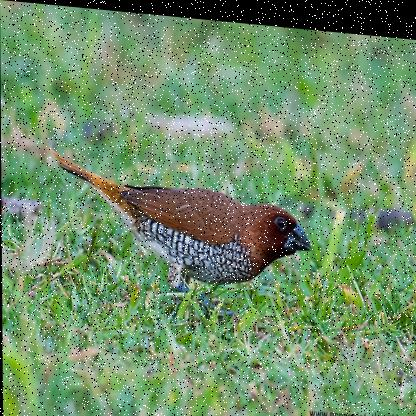Burung: (50, 146, 310, 310)
